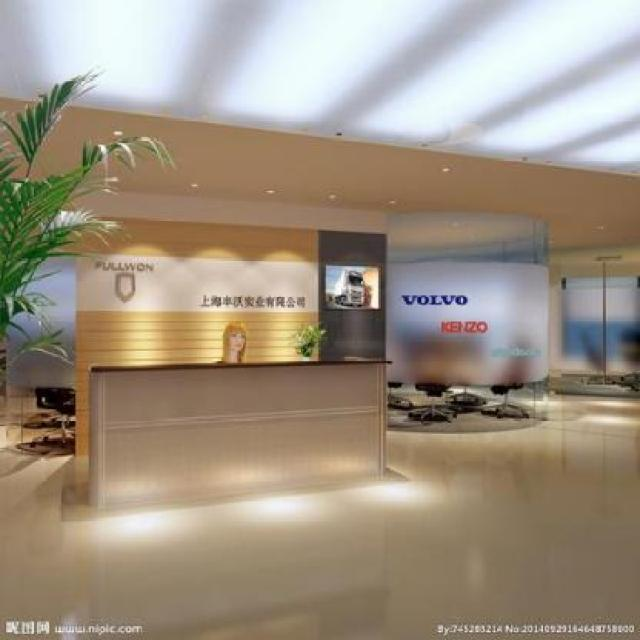frontdesk: (82, 320, 398, 517)
